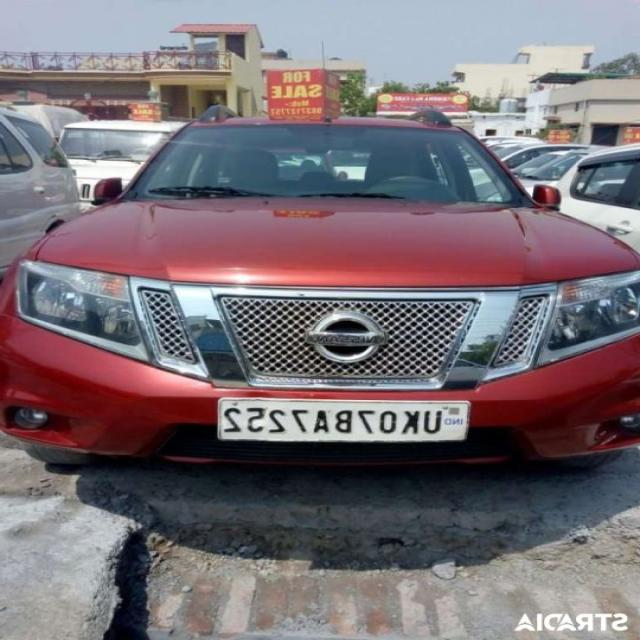number-plate: (184, 393, 483, 449)
